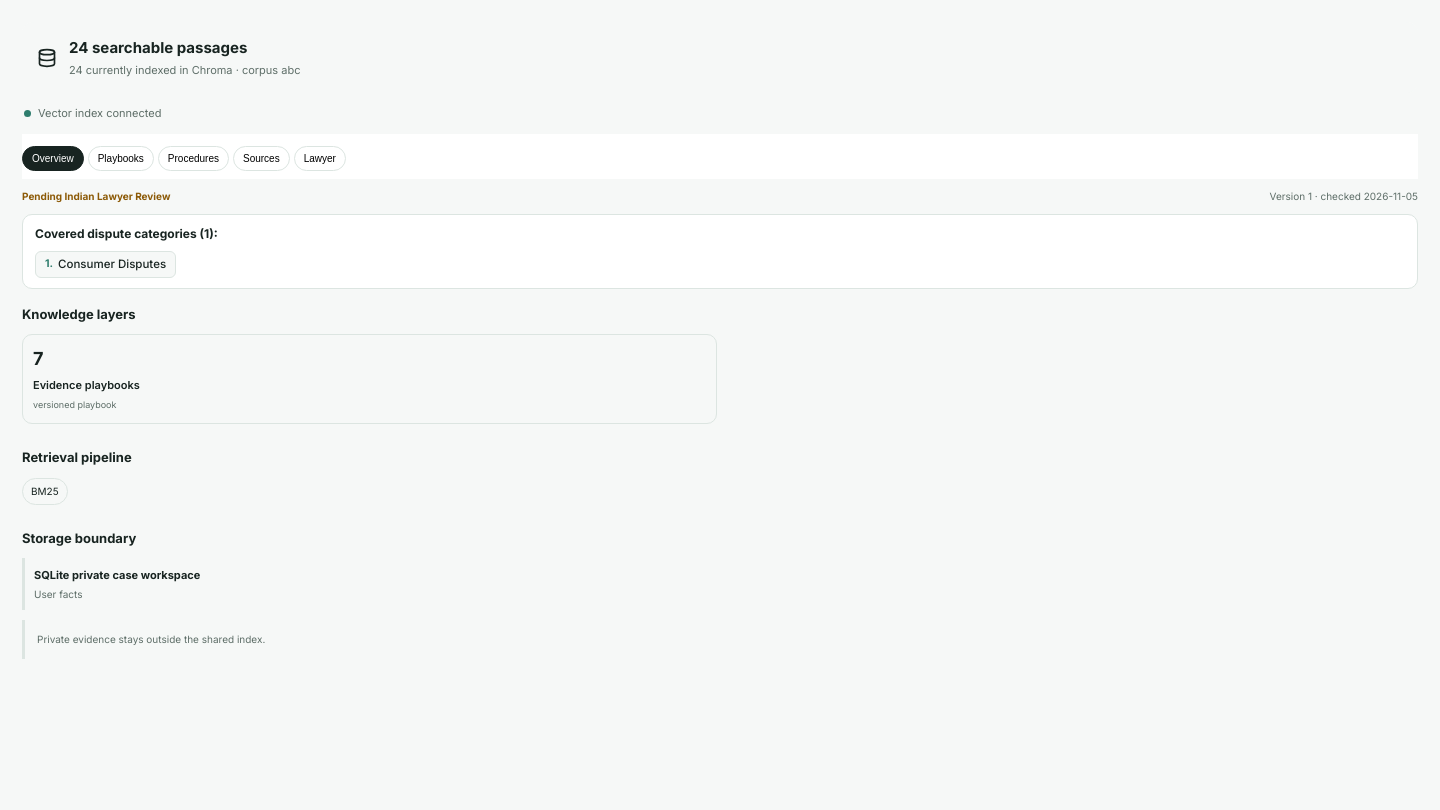
it: chat interface › shows layered knowledge and actual indexed source counts
Check: the text "24 searchable passages" is shown, box x1=69 y1=38 x2=247 y2=57
Check: the text "Evidence playbooks" is shown, box x1=33 y1=378 x2=140 y2=392
Click the tab "sources": x=261, y=158 x1=233 y1=146 x2=290 y2=170
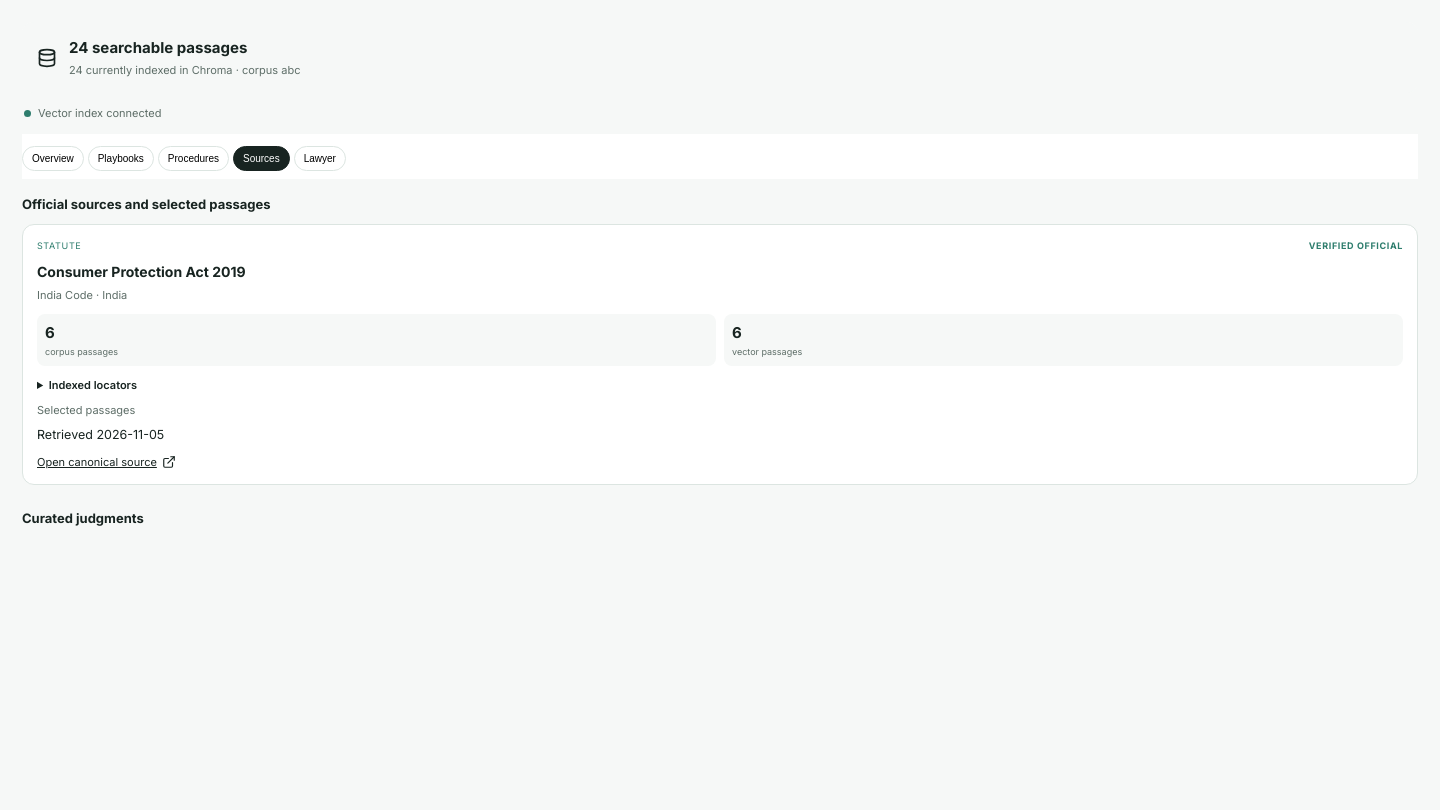
Check: the heading "Consumer Protection Act 2019" is shown, box x1=37 y1=262 x2=246 y2=280
